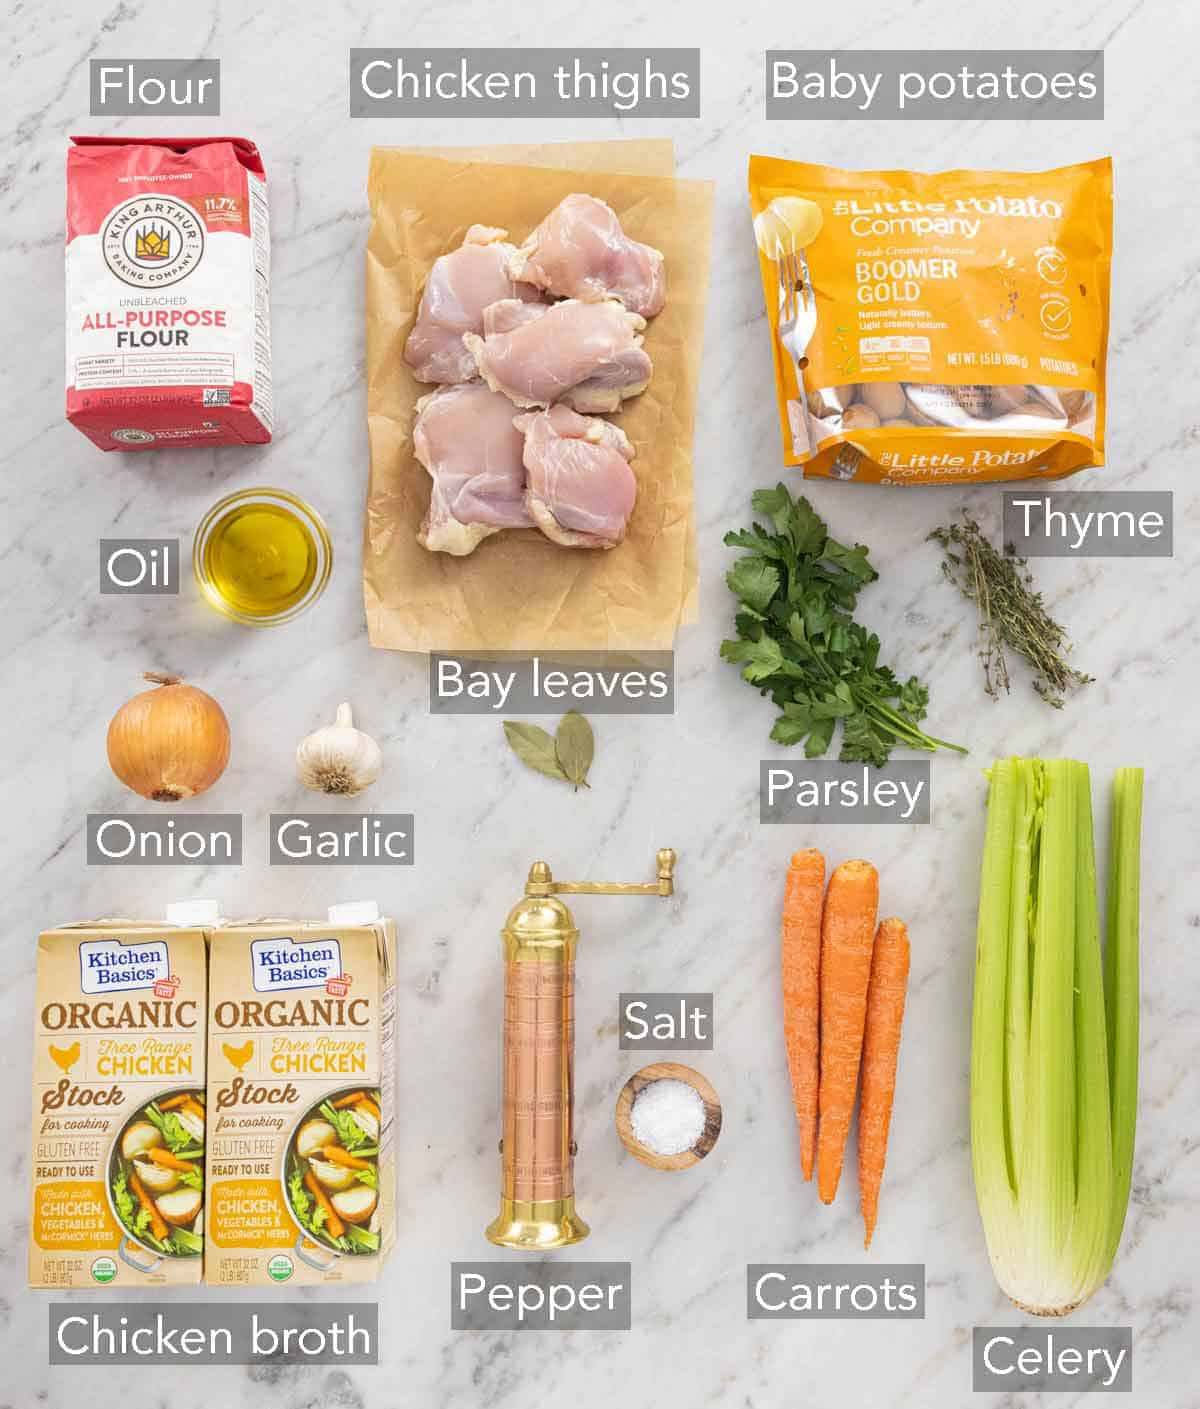Carrot: (844, 913, 926, 1263), (796, 850, 871, 1216), (769, 838, 840, 1200)
Chicken: (451, 284, 683, 437), (482, 190, 702, 336), (385, 209, 545, 397), (411, 374, 554, 583), (486, 390, 651, 555)
Cilantro: (705, 477, 974, 774)
Onion: (82, 660, 251, 812)
